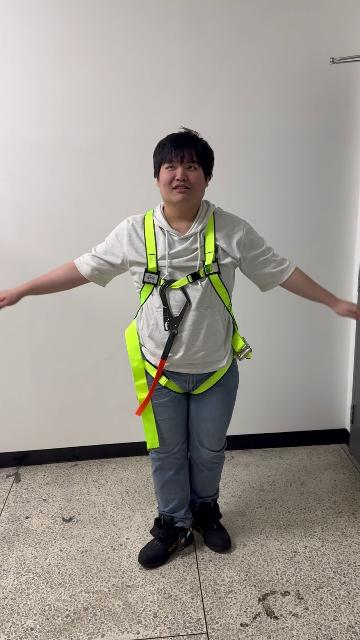helmet_not_worn: (152, 132, 217, 195)
shoe_worn: (138, 515, 193, 568), (189, 500, 230, 552)
vest_worn: (124, 210, 248, 445)
